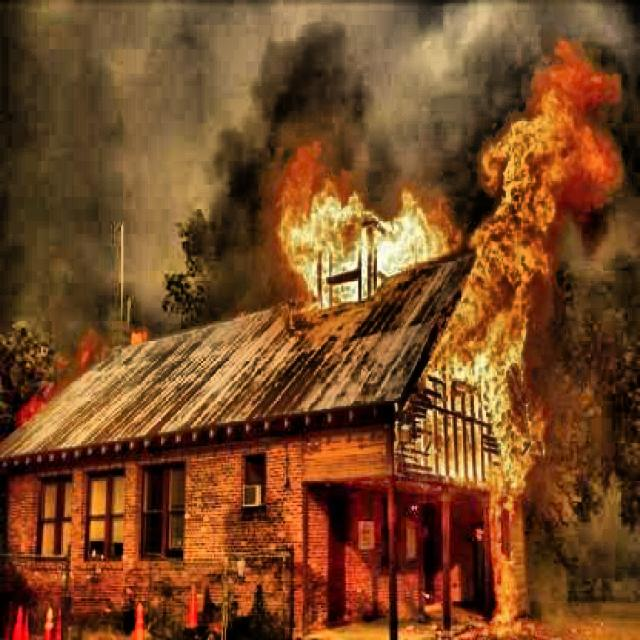Fire: (437, 38, 621, 640), (273, 148, 464, 318)
